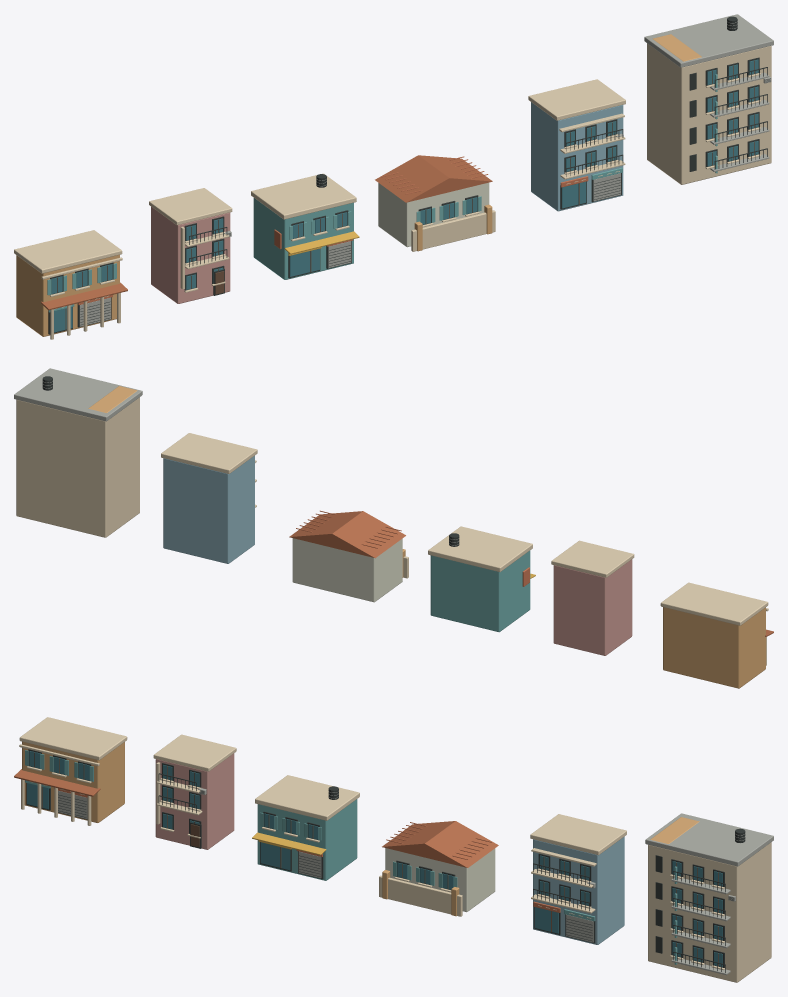
File: colombo-building-kit.glb
The picture shows the model from 3 angles, top to bottom: view 1: azimuth 30°, elevation 25°; view 2: azimuth 150°, elevation 25°; view 3: azimuth 330°, elevation 25°; orthographic projection.
Visible parts, largest first — view 1: apartment__plaster-warm-cream, mixed-use__plaster-monsoon-blue, apartment__concrete, town-house__plaster-dusty-rose, heritage-shop__plaster-warm-cream, corner-shop__plaster-muted-teal, mixed-use__plaster-warm-cream, courtyard-house__terracotta-tile, heritage-shop__plaster-sun-faded-ochre, corner-shop__plaster-warm-cream, town-house__plaster-warm-cream, courtyard-house__plaster-limewash (+17 smaller); view 2: apartment__plaster-warm-cream, mixed-use__plaster-monsoon-blue, heritage-shop__plaster-sun-faded-ochre, town-house__plaster-dusty-rose, corner-shop__plaster-muted-teal, courtyard-house__plaster-limewash, apartment__concrete, courtyard-house__terracotta-tile, corner-shop__plaster-warm-cream, heritage-shop__plaster-warm-cream, mixed-use__plaster-warm-cream, town-house__plaster-warm-cream (+1 smaller); view 3: apartment__plaster-warm-cream, mixed-use__plaster-monsoon-blue, apartment__concrete, town-house__plaster-dusty-rose, corner-shop__plaster-muted-teal, heritage-shop__plaster-warm-cream, mixed-use__plaster-warm-cream, courtyard-house__terracotta-tile, heritage-shop__plaster-sun-faded-ochre, corner-shop__plaster-warm-cream, courtyard-house__plaster-limewash, town-house__plaster-warm-cream (+19 smaller).
Boxes of the visible parts, bbox=[...] form: apartment__plaster-warm-cream: bbox=[647, 43, 771, 184]; mixed-use__plaster-monsoon-blue: bbox=[531, 102, 623, 211]; apartment__concrete: bbox=[644, 14, 773, 171]; town-house__plaster-dusty-rose: bbox=[151, 206, 230, 303]; heritage-shop__plaster-warm-cream: bbox=[14, 230, 122, 339]; corner-shop__plaster-muted-teal: bbox=[253, 198, 353, 279]; mixed-use__plaster-warm-cream: bbox=[528, 79, 625, 184]; courtyard-house__terracotta-tile: bbox=[375, 155, 492, 202]; heritage-shop__plaster-sun-faded-ochre: bbox=[16, 255, 119, 336]; corner-shop__plaster-warm-cream: bbox=[251, 173, 356, 241]; town-house__plaster-warm-cream: bbox=[149, 188, 232, 292]; courtyard-house__plaster-limewash: bbox=[378, 182, 489, 247]; apartment__plaster-warm-cream: bbox=[16, 397, 139, 537]; mixed-use__plaster-monsoon-blue: bbox=[163, 455, 254, 563]; heritage-shop__plaster-sun-faded-ochre: bbox=[663, 607, 765, 688]; town-house__plaster-dusty-rose: bbox=[553, 559, 632, 655]; corner-shop__plaster-muted-teal: bbox=[430, 550, 530, 632]; courtyard-house__plaster-limewash: bbox=[292, 538, 402, 602]; apartment__concrete: bbox=[14, 368, 142, 421]; courtyard-house__terracotta-tile: bbox=[289, 511, 405, 558]; corner-shop__plaster-warm-cream: bbox=[428, 526, 532, 571]; heritage-shop__plaster-warm-cream: bbox=[660, 582, 768, 665]; mixed-use__plaster-warm-cream: bbox=[161, 433, 257, 507]; town-house__plaster-warm-cream: bbox=[551, 540, 634, 577]; apartment__plaster-warm-cream: bbox=[648, 842, 771, 982]; mixed-use__plaster-monsoon-blue: bbox=[533, 836, 624, 944]; apartment__concrete: bbox=[645, 813, 773, 975]; town-house__plaster-dusty-rose: bbox=[155, 753, 234, 849]; corner-shop__plaster-muted-teal: bbox=[257, 799, 357, 880]; heritage-shop__plaster-warm-cream: bbox=[19, 717, 127, 825]; mixed-use__plaster-warm-cream: bbox=[530, 814, 626, 918]; courtyard-house__terracotta-tile: bbox=[382, 821, 498, 867]; heritage-shop__plaster-sun-faded-ochre: bbox=[22, 741, 124, 822]; corner-shop__plaster-warm-cream: bbox=[255, 775, 359, 842]; courtyard-house__plaster-limewash: bbox=[385, 848, 495, 912]; town-house__plaster-warm-cream: bbox=[153, 734, 236, 838].
Bounding box in the file's own units: 77.24 × 13.55 × 7.33.
